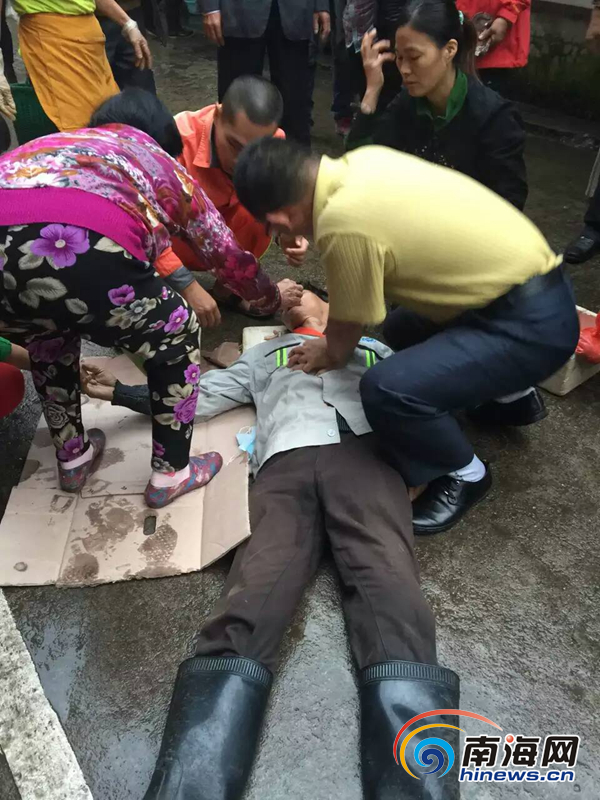fall: (106, 264, 489, 800)
